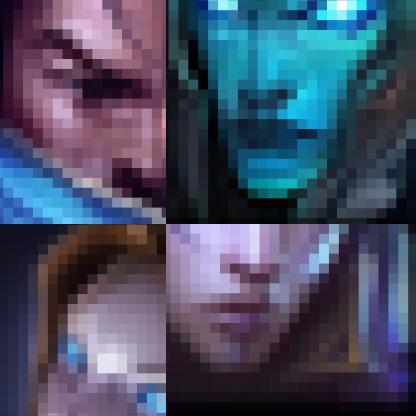Aphelios: (166, 224, 415, 415)
Kalista: (166, 0, 415, 223)
Orianna: (0, 224, 165, 415)
Yasuo: (0, 0, 165, 223)
